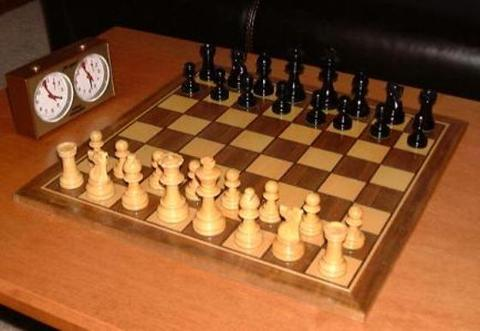xcorner: (215, 82, 225, 92), (162, 123, 172, 133), (243, 89, 253, 99), (211, 116, 221, 126), (193, 131, 203, 141), (130, 184, 140, 194), (272, 96, 282, 106), (257, 110, 267, 120), (206, 157, 216, 167), (186, 175, 196, 185), (273, 133, 283, 143), (257, 149, 267, 159), (200, 206, 210, 216), (291, 158, 301, 168), (366, 119, 376, 129), (354, 134, 364, 144), (295, 208, 305, 218), (399, 127, 409, 137), (388, 143, 398, 153), (376, 160, 386, 170), (334, 220, 344, 230), (199, 95, 208, 105), (181, 109, 191, 118), (142, 139, 152, 148), (121, 155, 130, 165), (97, 174, 107, 183), (228, 102, 237, 112), (153, 165, 162, 175), (242, 124, 251, 134), (225, 140, 234, 150), (165, 195, 174, 205), (302, 104, 312, 113), (288, 118, 298, 127), (240, 167, 250, 176), (221, 186, 231, 195), (334, 111, 343, 121), (321, 126, 330, 136), (307, 141, 316, 151), (275, 177, 285, 186), (257, 197, 267, 206), (238, 218, 247, 228), (341, 151, 351, 160), (327, 168, 336, 178), (312, 187, 321, 197), (277, 231, 287, 240), (364, 178, 373, 188), (350, 198, 359, 208), (174, 148, 183, 157), (318, 244, 327, 253)
